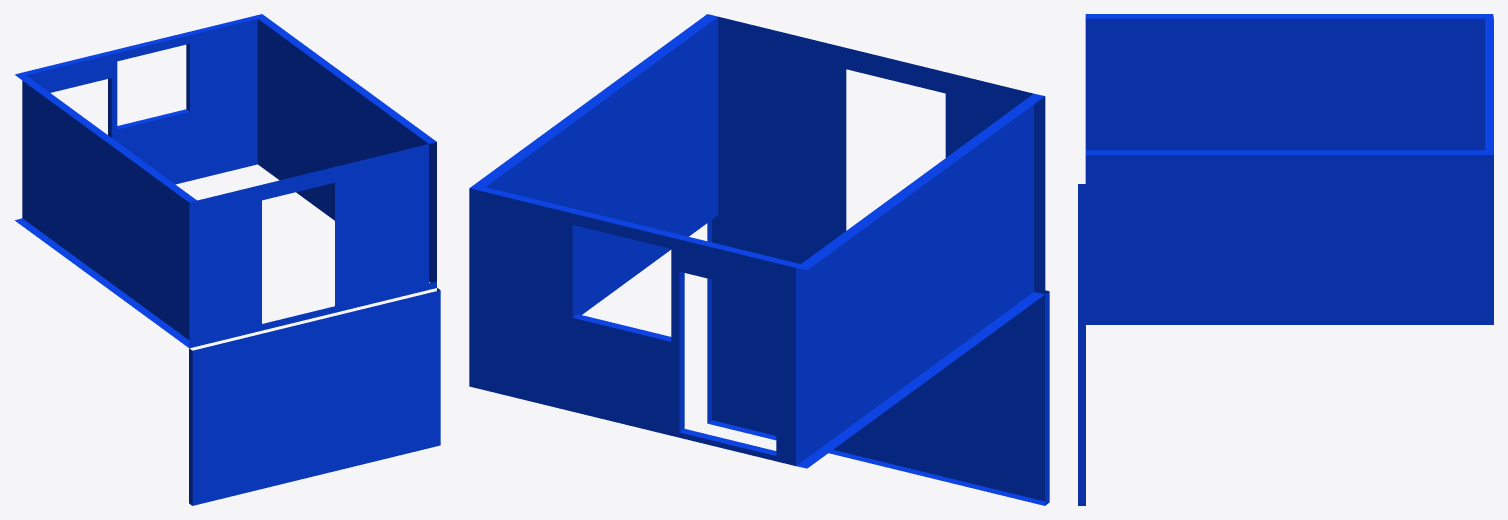
The model's file is m_RoomHalfFar.FBX.
3 renders of one model, left to right at view 1: azimuth 30°, elevation 25°; view 2: azimuth 150°, elevation 25°; view 3: azimuth 270°, elevation 25°, orthographic. The views are drawn at different scales.
Visible parts, largest first — view 1: Room; view 2: Room; view 3: Room.
Part boxes in pixels (x1=…): Room: x1=15, y1=14, x2=440, y2=505; Room: x1=469, y1=14, x2=1049, y2=505; Room: x1=1078, y1=14, x2=1493, y2=505.
Size of the model in its own units: 227 by 283 by 263.
